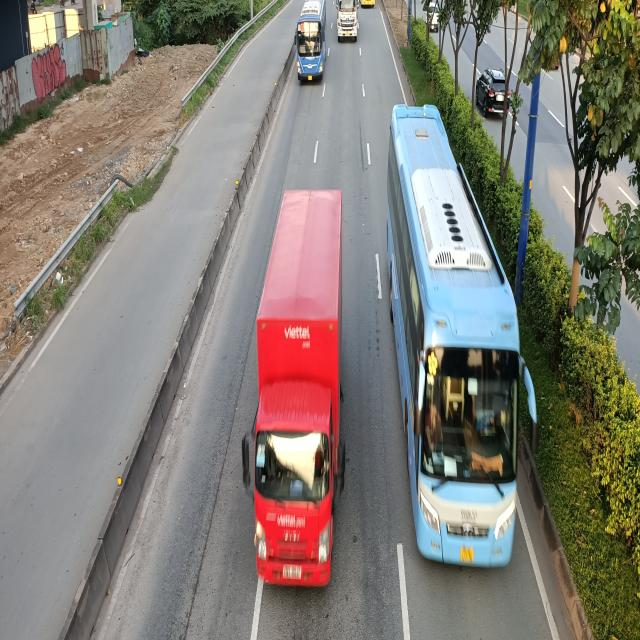coach: (384, 84, 533, 573), (238, 193, 348, 592), (292, 2, 326, 86)
truck: (338, 0, 360, 43)
